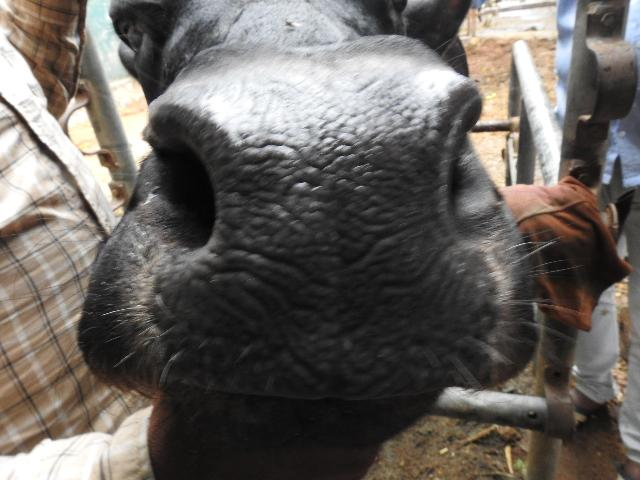Muzzle: (202, 87, 446, 377)
